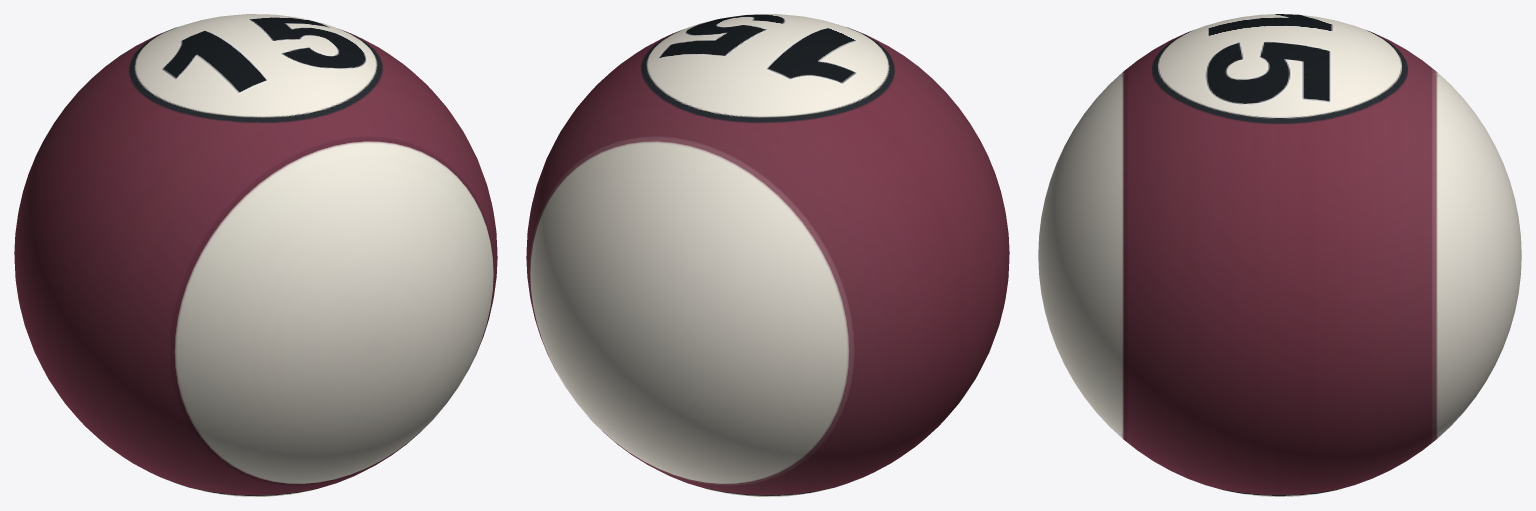
Rendered from ball-pool-15.glb.
The picture shows the model from 3 angles, left to right: view 1: azimuth 30°, elevation 25°; view 2: azimuth 150°, elevation 25°; view 3: azimuth 270°, elevation 25°; orthographic projection.
Parts seen in each view (by area): view 1: ball; view 2: ball; view 3: ball.
Boxes of the visible parts, x1,y1,x2,y2 form: ball: (14,14,497,496); ball: (526,14,1009,496); ball: (1038,14,1521,496).
Bounding box in the file's own units: 0.0655 × 0.0655 × 0.0655.
Materials: 1 (1 with a texture image).
